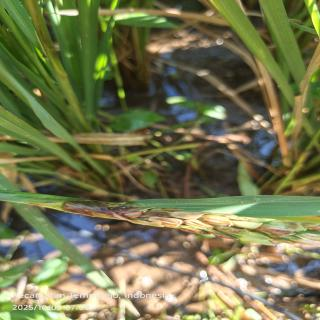Busuk-Pelepah: (61, 202, 173, 221)
